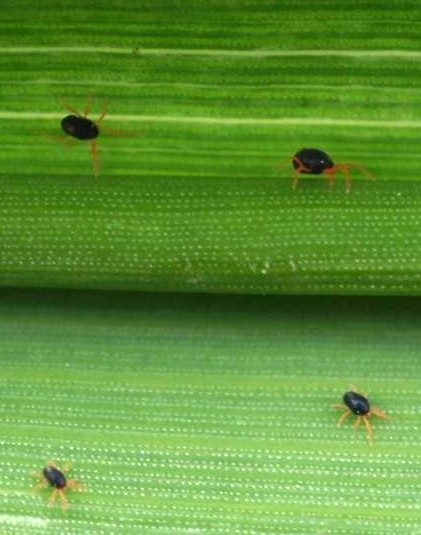Wheat Red Spider: (268, 137, 378, 198)
